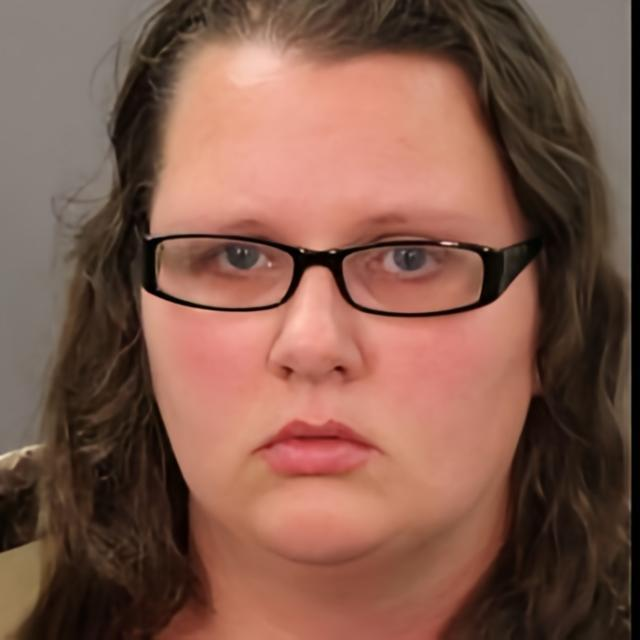sad: (139, 49, 532, 562)
